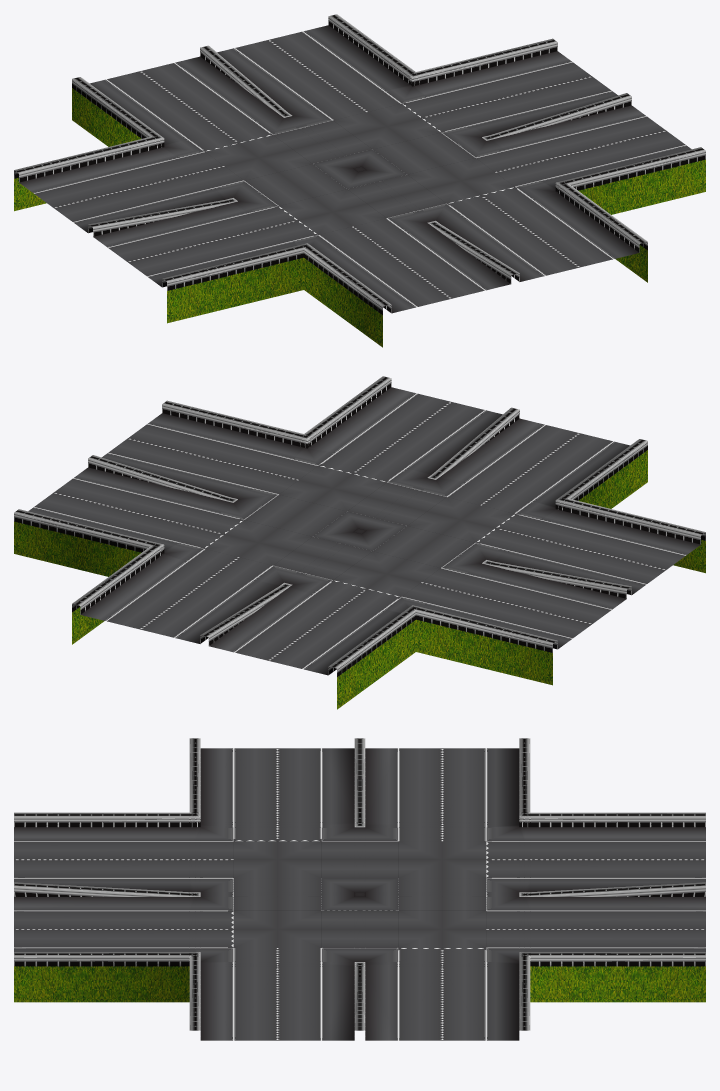
The model's file is kruispunt_snelweg_1.fbx.
3 renders of one model, top to bottom at view 1: azimuth 30°, elevation 25°; view 2: azimuth 150°, elevation 25°; view 3: azimuth 270°, elevation 25°, orthographic. The views are drawn at different scales.
Visible parts, largest first — view 1: kruispunt_weg_1; view 2: kruispunt_weg_1; view 3: kruispunt_weg_1.
Boxes of the visible parts, bbox=[...] form: kruispunt_weg_1: bbox=[14, 14, 705, 347]; kruispunt_weg_1: bbox=[14, 376, 705, 709]; kruispunt_weg_1: bbox=[14, 738, 705, 1040].
Bounding box in the file's own units: 3938 × 288 × 3938.
